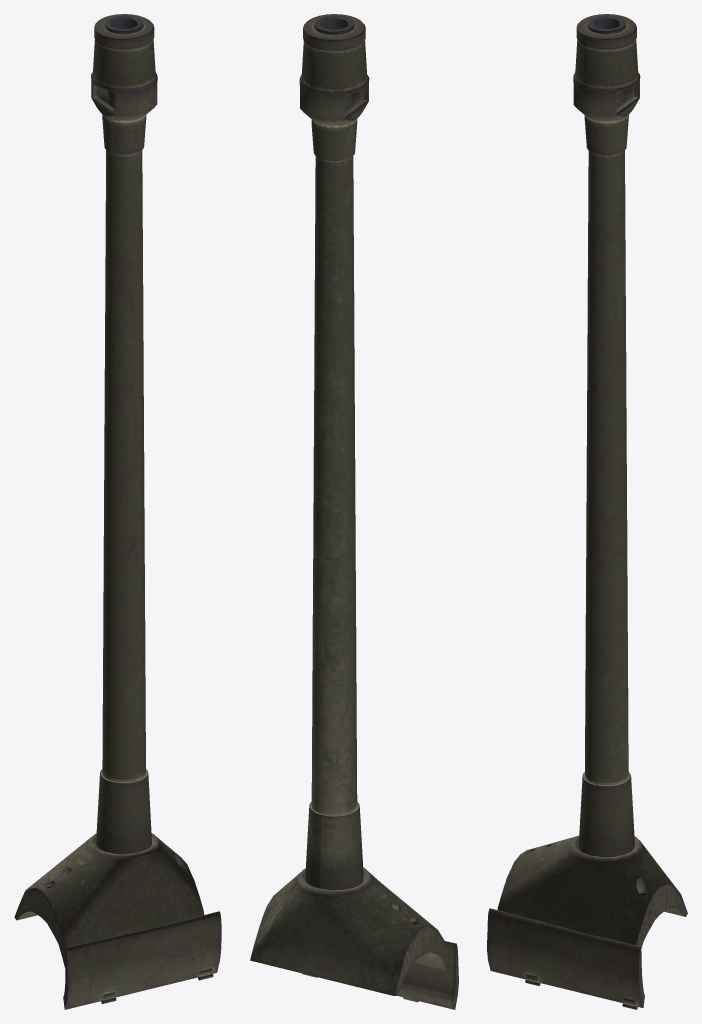
The model's file is Gun_01.glb.
3 views of the same model, side by side, from view 1: azimuth 30°, elevation 25°; view 2: azimuth 150°, elevation 25°; view 3: azimuth 330°, elevation 25° (orthographic). The views are drawn at different scales.
Parts seen in each view (by area): view 1: set_0_group_0; view 2: set_0_group_0; view 3: set_0_group_0.
Boxes of the visible parts, bbox=[...] form: set_0_group_0: bbox=[14, 14, 221, 1009]; set_0_group_0: bbox=[250, 14, 458, 1009]; set_0_group_0: bbox=[487, 14, 687, 1009].
Bounding box in the file's own units: 0.84 × 4.99 × 0.5633.
1 material, 1 textured.
